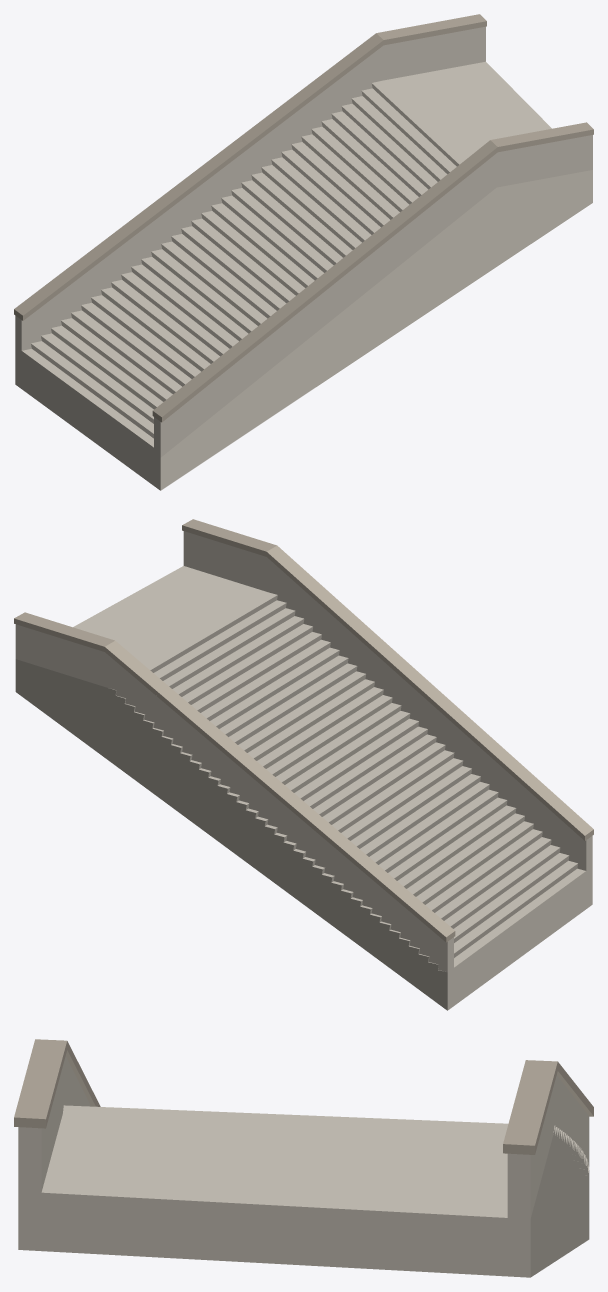
File: stair_flight.glb
3 views of the same model, one above another, from view 1: azimuth 30°, elevation 25°; view 2: azimuth 150°, elevation 25°; view 3: azimuth 270°, elevation 25° (orthographic). The views are drawn at different scales.
Visible parts, largest first — view 1: Stair_Steps, Stair_ParapetOuter, Stair_ParapetInner, Stair_CopingOuter, Stair_CopingInner; view 2: Stair_Steps, Stair_ParapetOuter, Stair_ParapetInner, Stair_CopingOuter, Stair_CopingInner; view 3: Stair_Steps, Stair_ParapetOuter, Stair_CopingOuter, Stair_CopingInner, Stair_ParapetInner.
Boxes of the visible parts, <box> form: Stair_Steps: <box>15,61,592,490</box>; Stair_ParapetOuter: <box>15,26,485,351</box>; Stair_ParapetInner: <box>154,135,592,457</box>; Stair_CopingOuter: <box>14,14,486,320</box>; Stair_CopingInner: <box>152,122,593,422</box>; Stair_Steps: <box>15,566,592,1010</box>; Stair_ParapetOuter: <box>15,624,453,972</box>; Stair_ParapetInner: <box>183,531,592,870</box>; Stair_CopingOuter: <box>14,612,455,942</box>; Stair_CopingInner: <box>182,519,593,840</box>; Stair_Steps: <box>18,1105,589,1277</box>; Stair_ParapetOuter: <box>507,1075,589,1219</box>; Stair_CopingOuter: <box>503,1060,593,1154</box>; Stair_CopingInner: <box>14,1039,100,1128</box>; Stair_ParapetInner: <box>18,1056,90,1192</box>.
Size of the model in its own units: 14.28 by 8.26 by 8.99.
